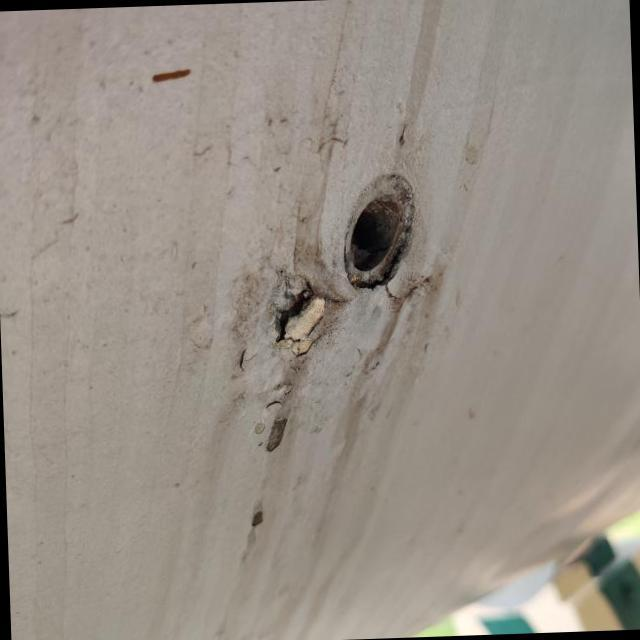Rupture: (244, 272, 378, 381)
